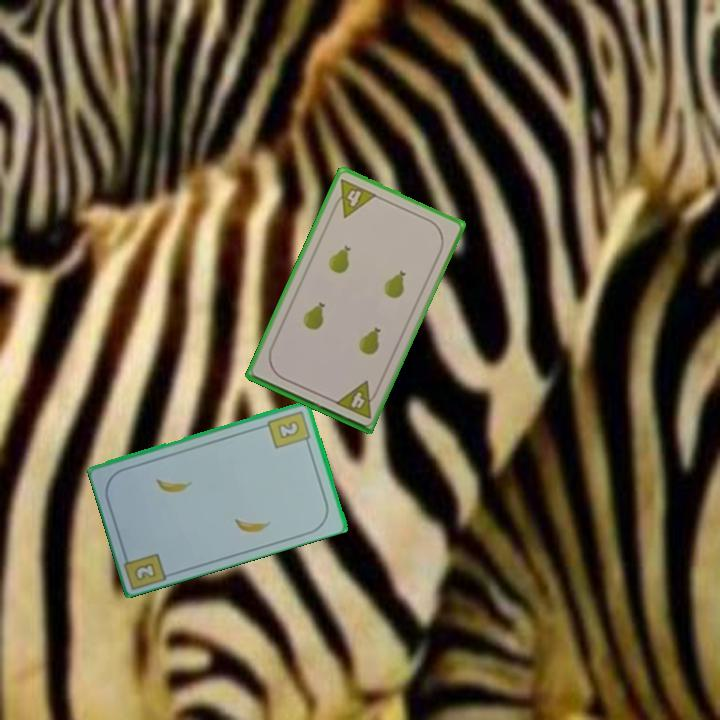2b: (265, 407, 313, 451), (133, 559, 159, 581)
4p: (328, 175, 380, 221), (331, 377, 382, 421)
